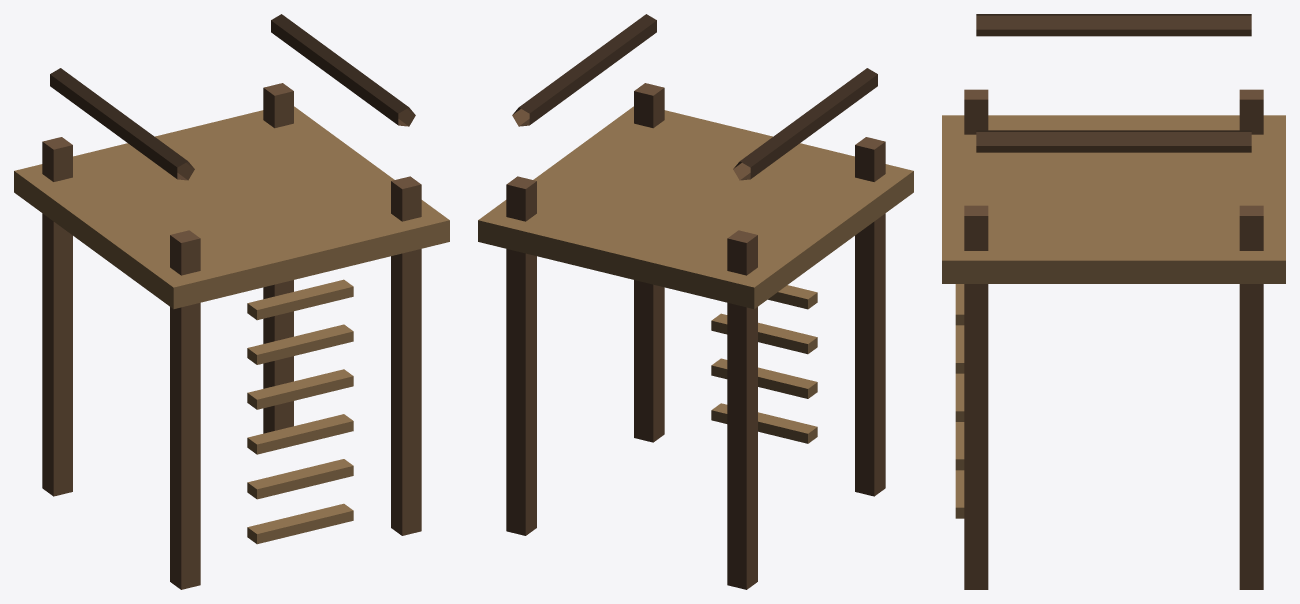
The picture shows the model from 3 angles, left to right: view 1: azimuth 30°, elevation 25°; view 2: azimuth 150°, elevation 25°; view 3: azimuth 270°, elevation 25°; orthographic projection. The views are drawn at different scales.
Visible parts, largest first — view 1: aef43d747b940a61a66b8cdb31e089b75cca16015ba9341835a175cd2edb; view 2: aef43d747b940a61a66b8cdb31e089b75cca16015ba9341835a175cd2edb; view 3: aef43d747b940a61a66b8cdb31e089b75cca16015ba9341835a175cd2edb.
Boxes of the visible parts, bbox=[...] form: aef43d747b940a61a66b8cdb31e089b75cca16015ba9341835a175cd2edb: bbox=[14, 14, 449, 589]; aef43d747b940a61a66b8cdb31e089b75cca16015ba9341835a175cd2edb: bbox=[478, 14, 913, 589]; aef43d747b940a61a66b8cdb31e089b75cca16015ba9341835a175cd2edb: bbox=[942, 14, 1285, 589].
Size of the model in its own units: 2 by 2.92 by 2.
